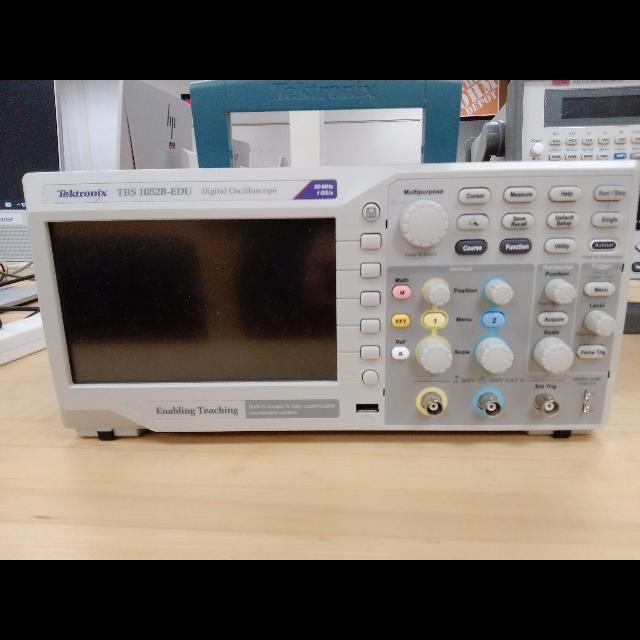Digital-Oscilloscope: (19, 166, 640, 430)
